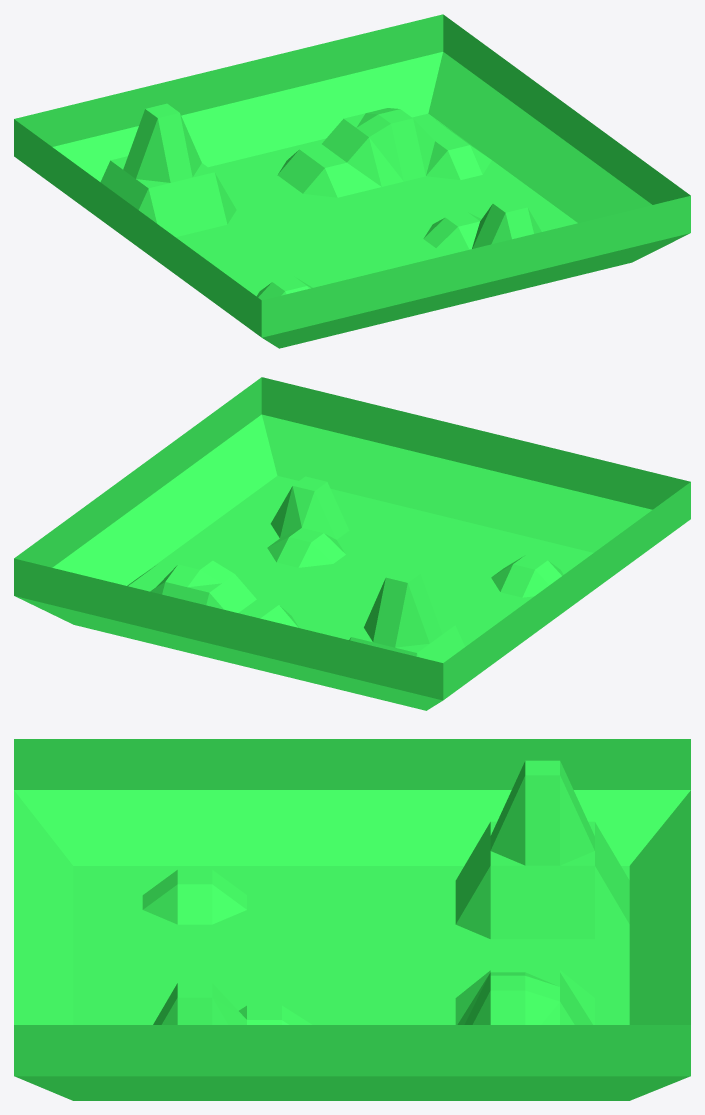
The model's file is sueloBasico2.dae.
3 views of the same model, one above another, from view 1: azimuth 30°, elevation 25°; view 2: azimuth 150°, elevation 25°; view 3: azimuth 270°, elevation 25° (orthographic). The views are drawn at different scales.
Parts seen in each view (by area): view 1: Suelo-col; view 2: Suelo-col; view 3: Suelo-col.
Part boxes in pixels (x1=…): Suelo-col: x1=14, y1=14, x2=690, y2=348; Suelo-col: x1=14, y1=377, x2=690, y2=710; Suelo-col: x1=14, y1=739, x2=690, y2=1100.
Size of the model in its own units: 12.17 by 12.17 by 2.67.
